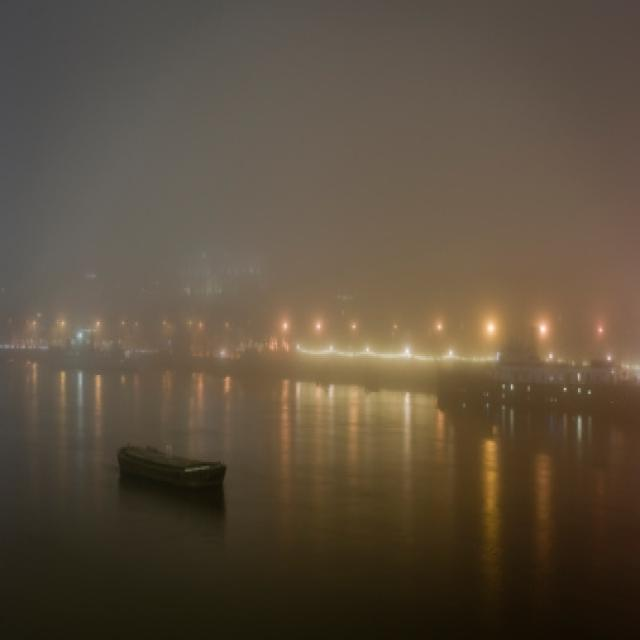Boat: (86, 413, 244, 541), (412, 362, 510, 436)
